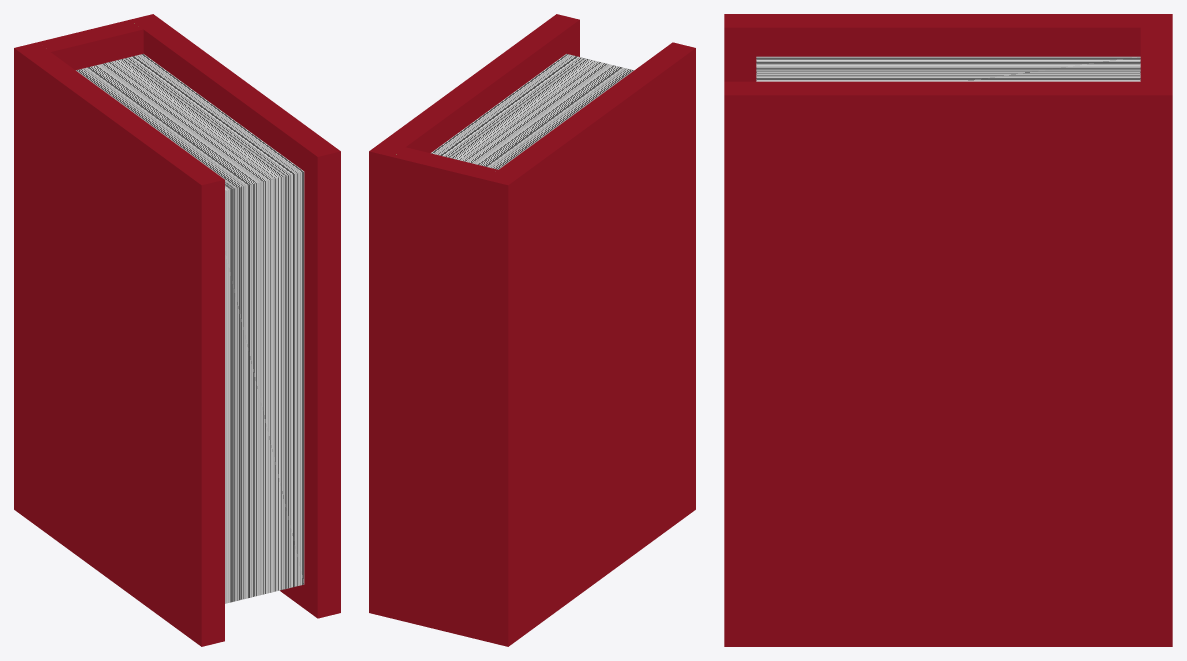
The model's file is book_red.glb.
3 views of the same model, side by side, from view 1: azimuth 30°, elevation 25°; view 2: azimuth 150°, elevation 25°; view 3: azimuth 270°, elevation 25° (orthographic). The views are drawn at different scales.
Size of the model in its own units: 12 by 38 by 28.
Materials: 1 (1 with a texture image).
